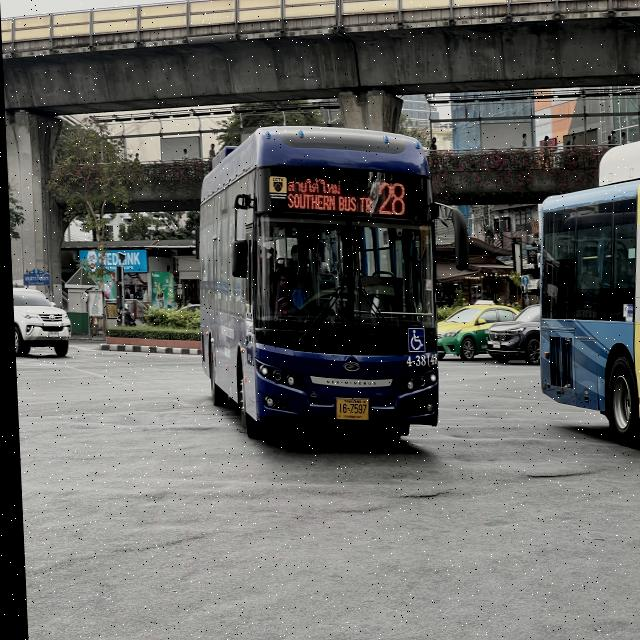Bus-Line-Number: (373, 178, 407, 219)
Destination-Sign-Normal: (280, 168, 373, 219)
TSB-Bus: (188, 125, 440, 442)
